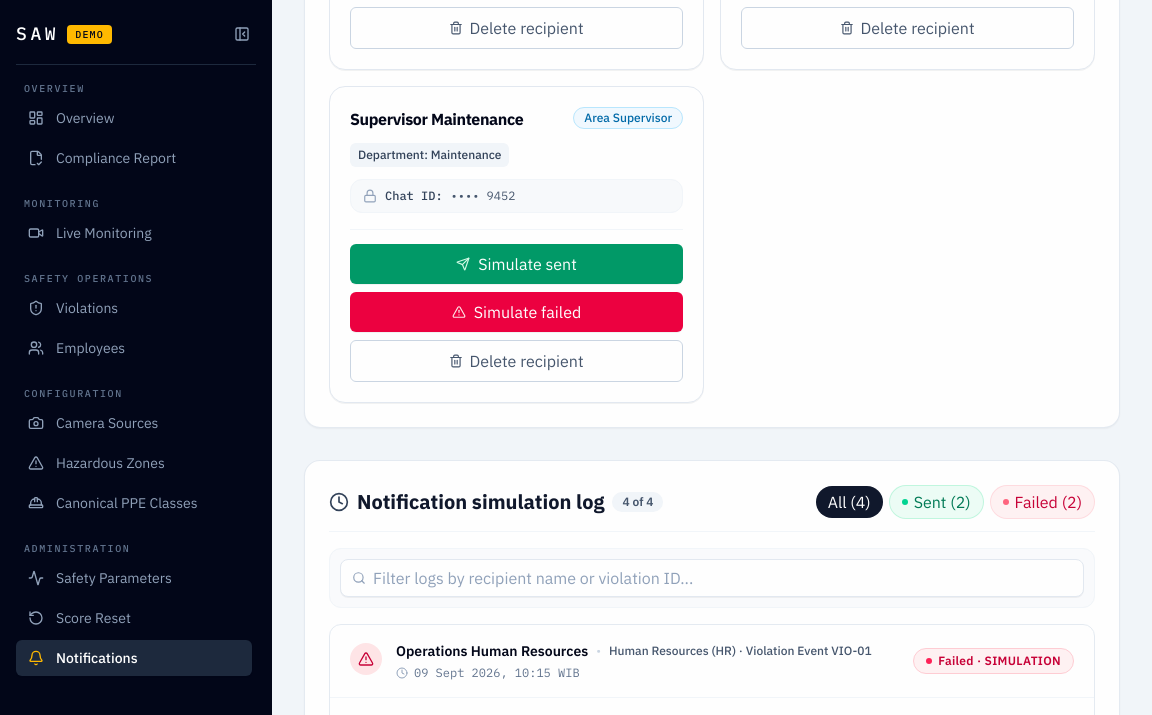
it: Notifications › deletes a recipient from the persisted configuration
The image size is (1152, 715).
(page scrolled)
Click the button "Delete recipient" below "•••• 9452" at (516, 360), box [350,340,683,382]
(page scrolled)
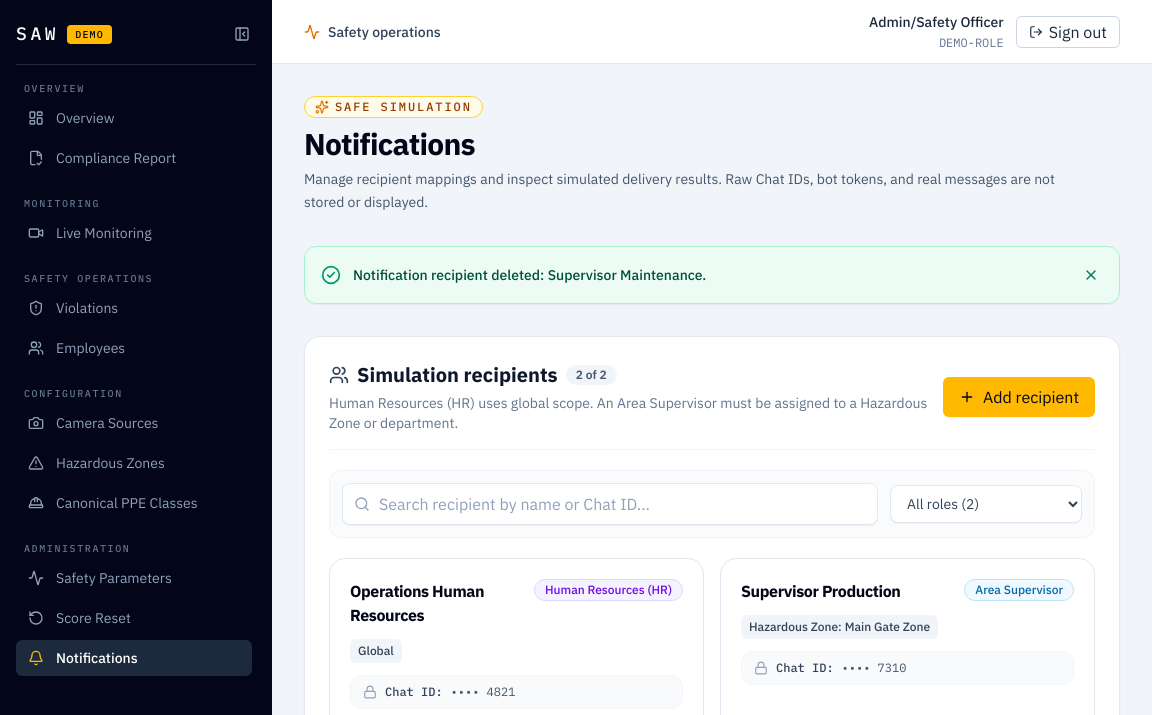
Expected: the message reads "Notification recipient deleted: Supervisor Maintenance.", [353,266,706,284]
